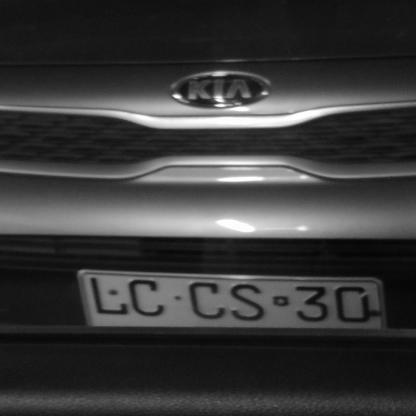Patente: (82, 270, 386, 332)
